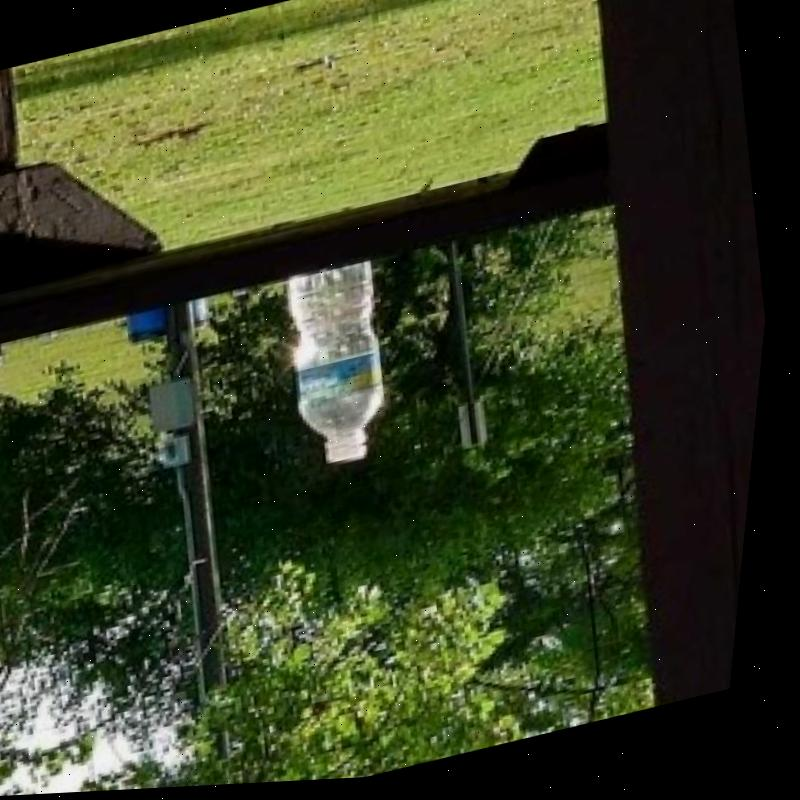botella: (274, 261, 417, 478)
